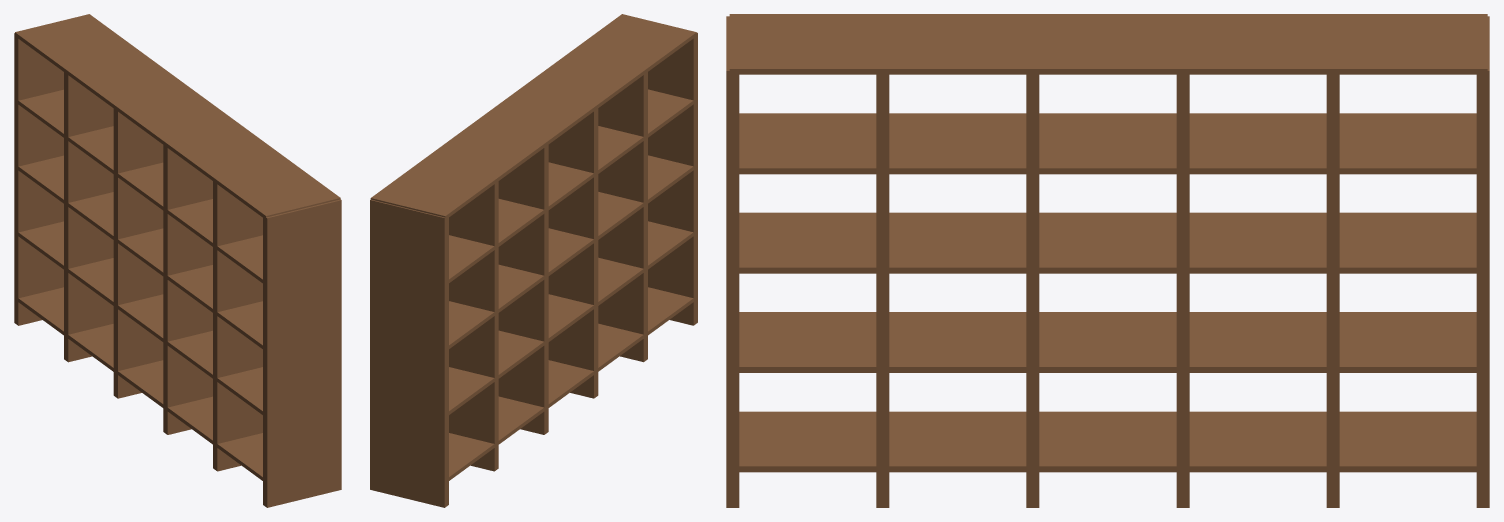
Rendered from regal.fbx.
3 views of the same model, side by side, from view 1: azimuth 30°, elevation 25°; view 2: azimuth 150°, elevation 25°; view 3: azimuth 270°, elevation 25° (orthographic). The views are drawn at different scales.
Parts seen in each view (by area): view 1: Regal; view 2: Regal; view 3: Regal.
Part boxes in pixels (bbox=[...]): Regal: bbox=[14, 14, 341, 507]; Regal: bbox=[370, 14, 697, 507]; Regal: bbox=[726, 14, 1489, 507].
Bounding box in the file's own units: 6001 × 22374 × 35250.
